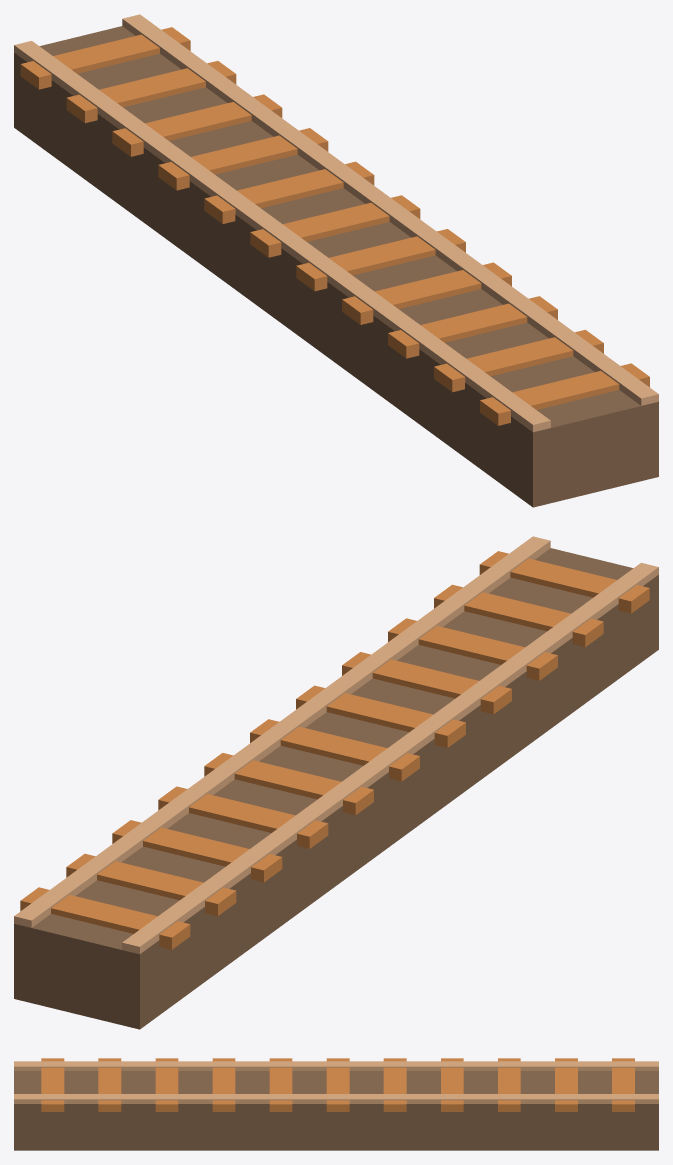
File: MainTrack.fbx
3 views of the same model, one above another, from view 1: azimuth 30°, elevation 25°; view 2: azimuth 150°, elevation 25°; view 3: azimuth 270°, elevation 25° (orthographic). The views are drawn at different scales.
Visible parts, largest first — view 1: Main Track, TrackPlys2, Tracks2; view 2: Main Track, TrackPlys2, Tracks2; view 3: Main Track, Tracks2, TrackPlys2.
Boxes of the visible parts, x1,y1,x2,y2 form: Main Track: (14, 26, 658, 507); TrackPlys2: (20, 27, 649, 425); Tracks2: (14, 14, 658, 432); Main Track: (14, 548, 658, 1029); TrackPlys2: (20, 551, 649, 949); Tracks2: (14, 536, 658, 954); Main Track: (14, 1071, 658, 1150); Tracks2: (14, 1061, 658, 1103); TrackPlys2: (41, 1058, 634, 1111).
Bounding box in the file's own units: 169 × 87.84 × 1000.
